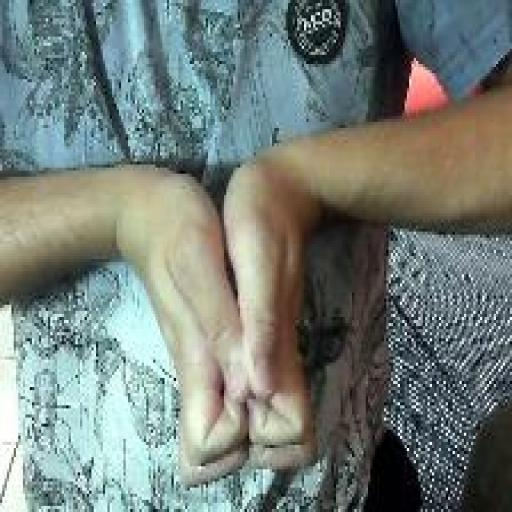I -boar-: (128, 151, 322, 489)
